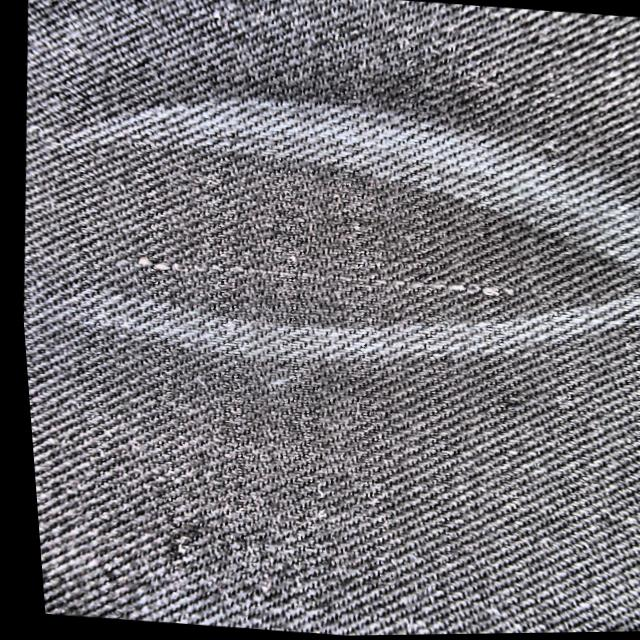Stitch: (400, 261, 519, 320), (242, 253, 390, 294), (105, 242, 226, 279)
